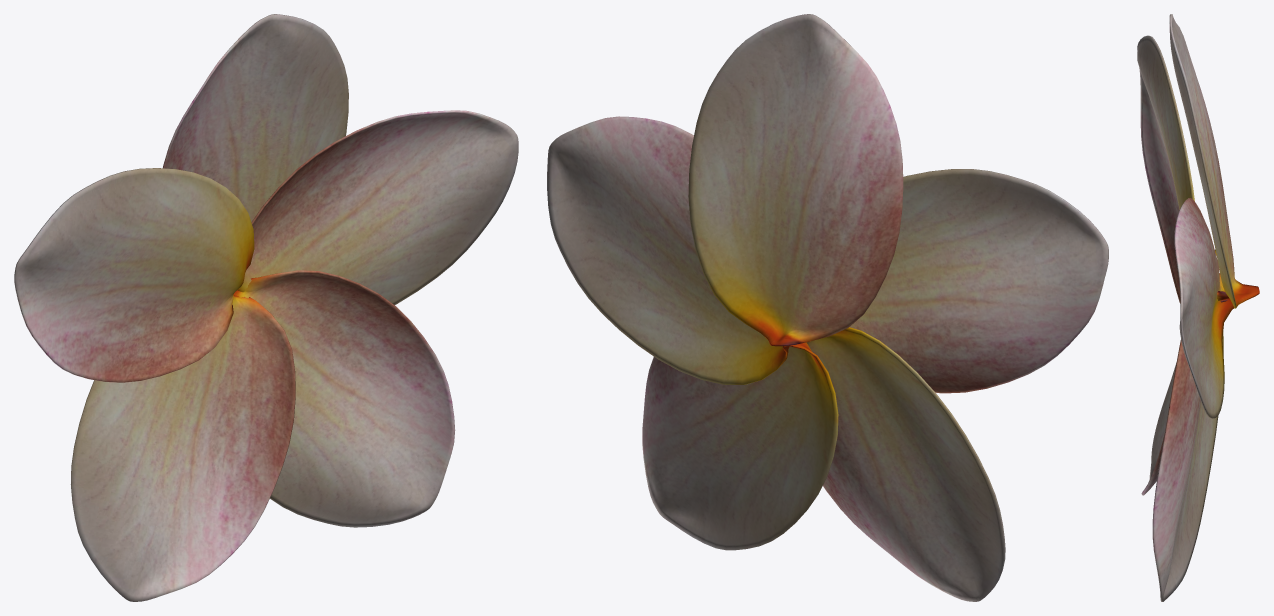
The model's file is frangipani-medium.glb.
3 views of the same model, side by side, from view 1: azimuth 30°, elevation 25°; view 2: azimuth 150°, elevation 25°; view 3: azimuth 270°, elevation 25° (orthographic). The views are drawn at different scales.
Visible parts, largest first — view 1: Leaf.004, Leaf.005, Leaf.003, Leaf.002, Leaf.001; view 2: Leaf.001, Leaf.005, Leaf.002, Leaf.004, Leaf.003; view 3: Leaf.003, Leaf.002, Leaf.005, Leaf.001, Leaf.004.
Part boxes in pixels (<box>): Leaf.004: <box>70,295,295,601</box>; Leaf.005: <box>14,168,254,382</box>; Leaf.003: <box>233,270,455,527</box>; Leaf.002: <box>237,110,518,304</box>; Leaf.001: <box>163,14,348,221</box>; Leaf.001: <box>688,14,903,346</box>; Leaf.005: <box>850,169,1108,393</box>; Leaf.002: <box>547,116,789,384</box>; Leaf.004: <box>807,327,1005,601</box>; Leaf.003: <box>642,342,838,550</box>; Leaf.003: <box>1152,291,1228,601</box>; Leaf.002: <box>1174,198,1233,418</box>; Leaf.005: <box>1137,35,1194,303</box>; Leaf.001: <box>1169,14,1259,308</box>; Leaf.004: <box>1141,249,1227,495</box>.
Bounding box in the file's own units: 1.01 × 1 × 0.2095.
1 material, 1 textured.
